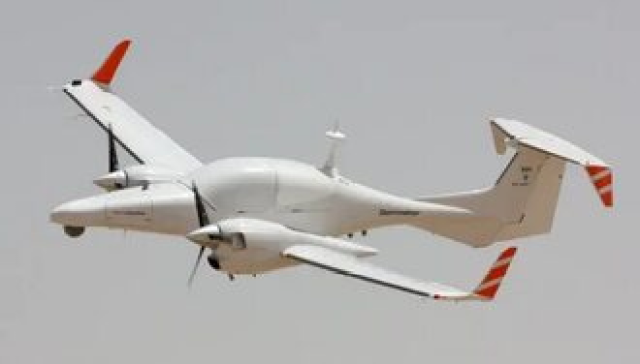military drone: (48, 39, 613, 302)
